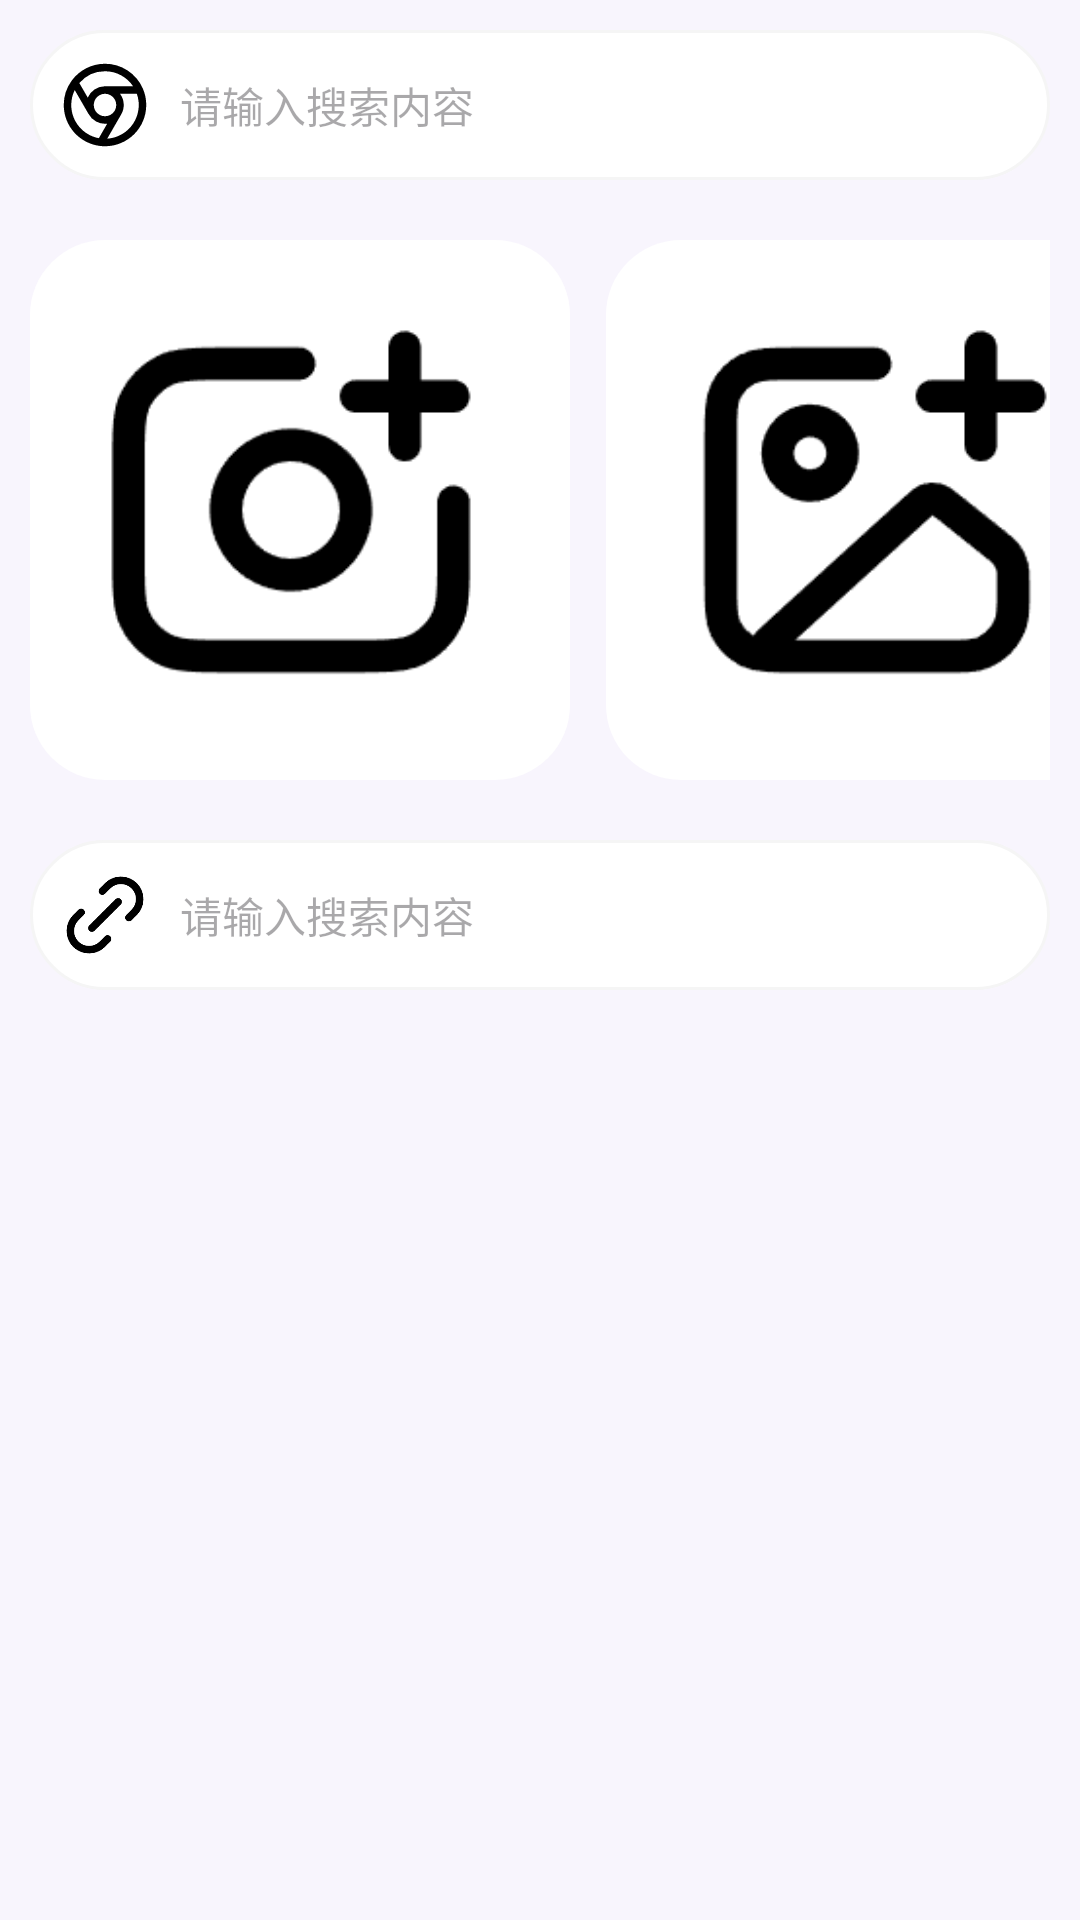

Icons on this 1080px×1920px Android screen, each with its box as box=[x1, y1, x2, y2]:
camera plus: box=[111, 330, 471, 674]
link: box=[66, 876, 144, 954]
